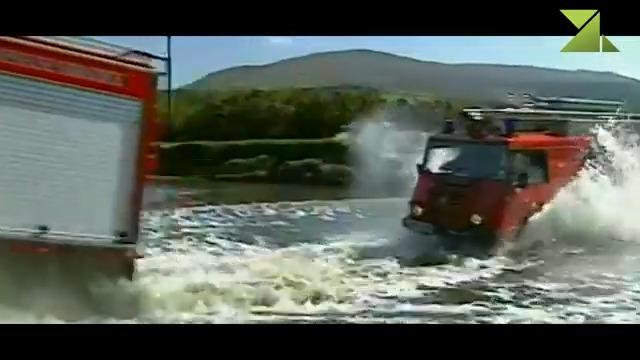MIL_HMMWV: (400, 123, 592, 246)
